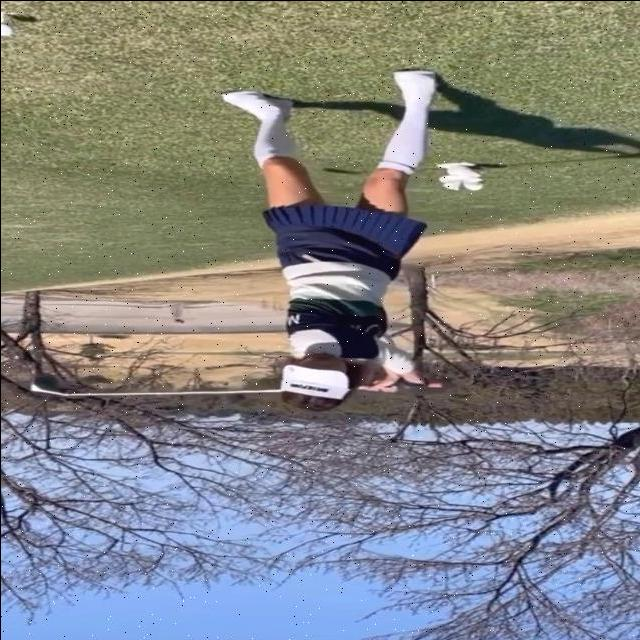ClubHandle: (28, 372, 374, 396)
ClubHead: (28, 372, 60, 396)
GolfBall: (0, 23, 12, 35)
